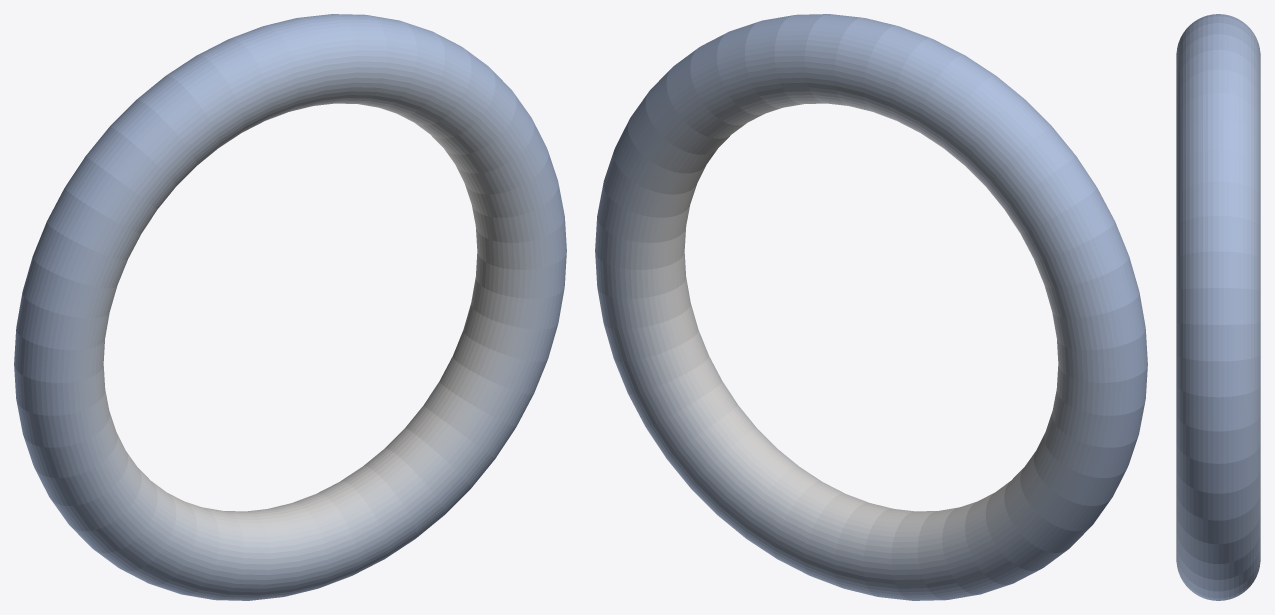
The picture shows the model from 3 angles, left to right: view 1: azimuth 30°, elevation 25°; view 2: azimuth 150°, elevation 25°; view 3: azimuth 270°, elevation 25°; orthographic projection. The views are drawn at different scales.
Parts seen in each view (by area): view 1: world; view 2: world; view 3: world.
Boxes of the visible parts, bbox=[...] form: world: bbox=[14, 14, 566, 600]; world: bbox=[595, 14, 1147, 600]; world: bbox=[1176, 14, 1260, 600].
Size of the model in its own units: 28.8 by 28.74 by 4.13.
